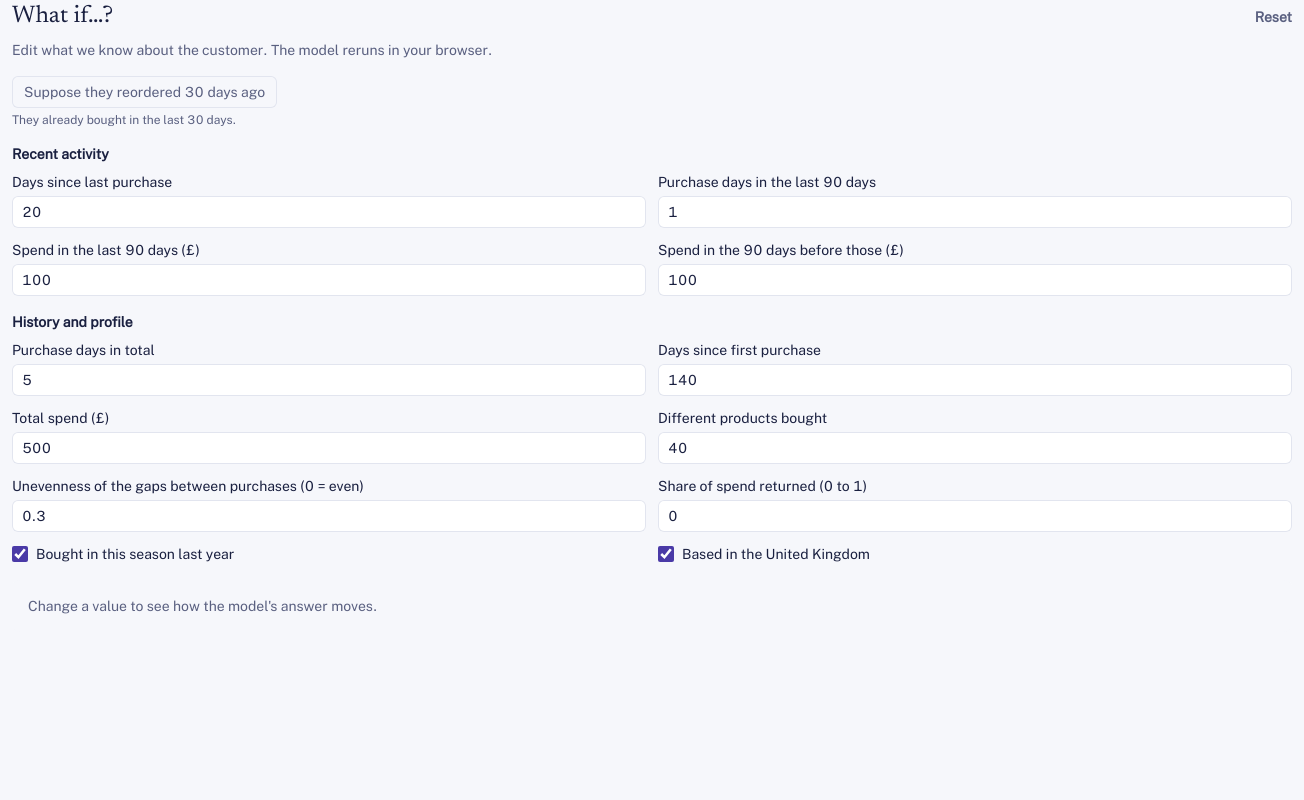
it: under a budget, the reading does not claim who is on the list
Replace the text in the field labelled "Days since last purchase" with "60": (329, 212) 12,196 -> 646,228
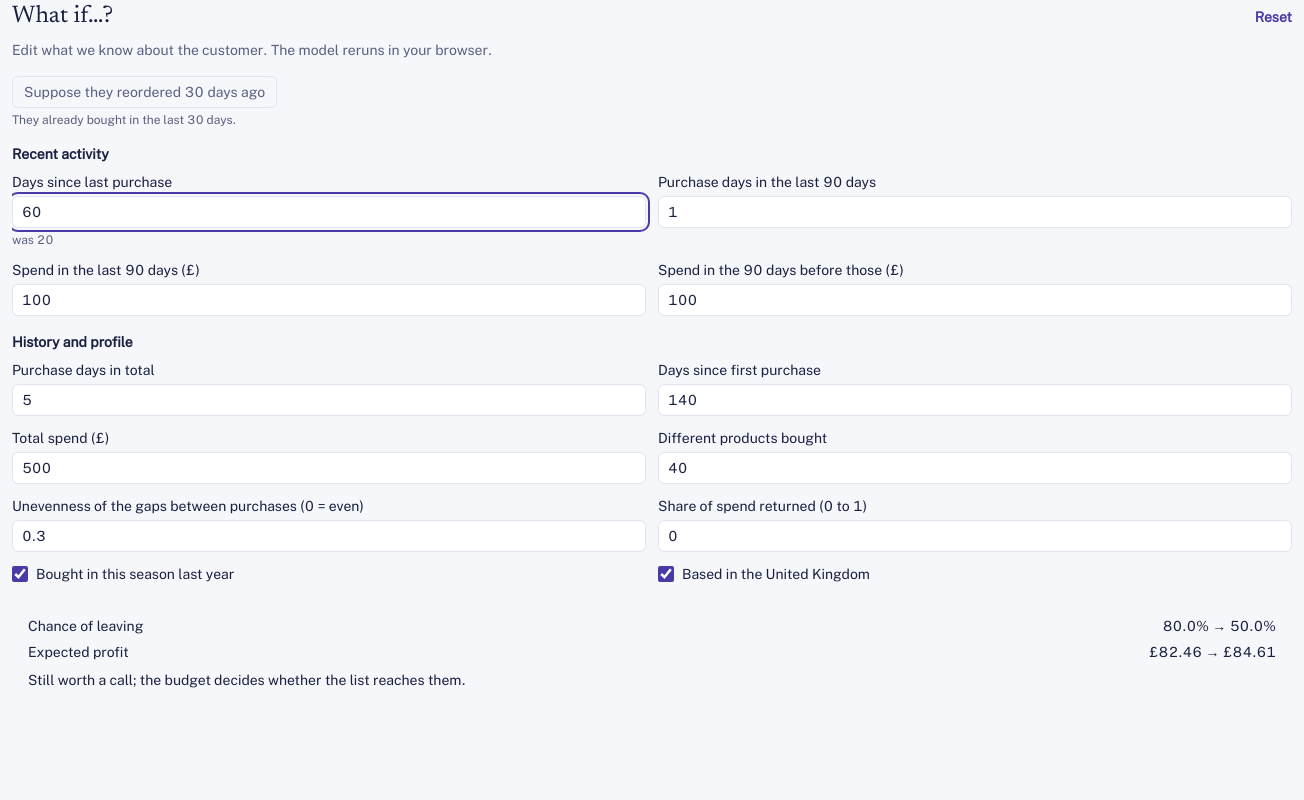
Expected: the message named "What-if result" does not show "the list would", 12,600 -> 1292,706
Now the message named "What-if result" shows "the budget decides whether the list reaches them.", box 28,672 -> 466,688
